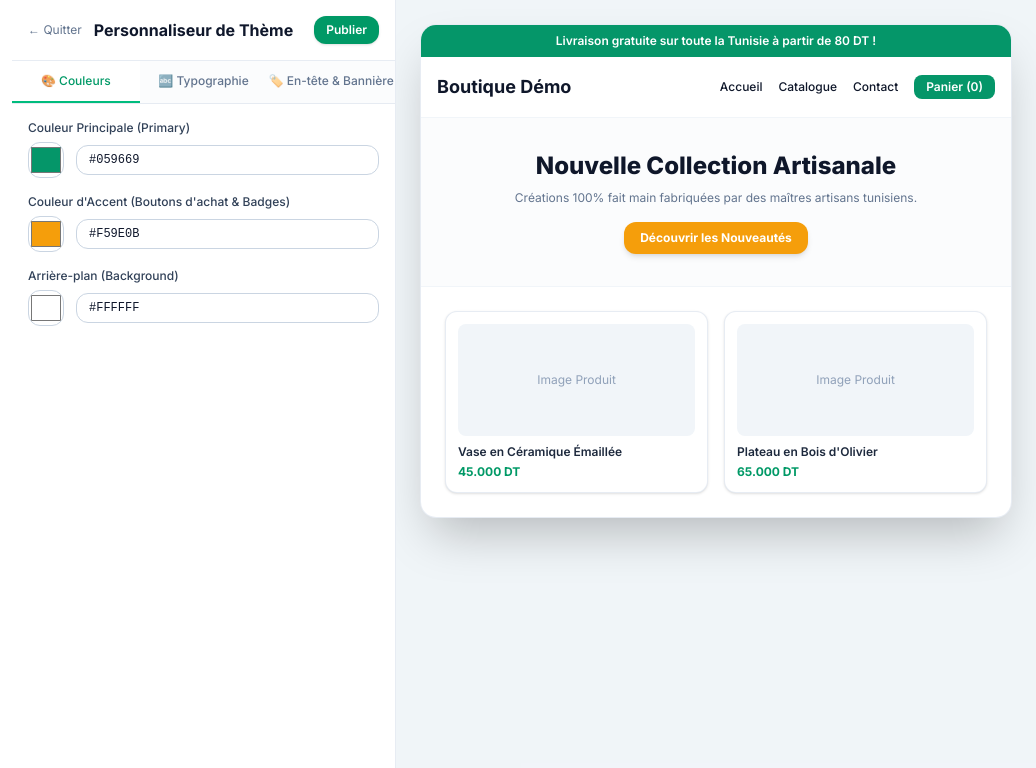
Test: PLAN-M-14: Visual Storefront Theme Customizer & Real-Time CSS Live Preview › switches tabs and updates header announcement text in live preview
# Switch to Header & Banner tab
Click the button "🏷️ En-tête & Bannière": (331,82) [267,61,395,103]
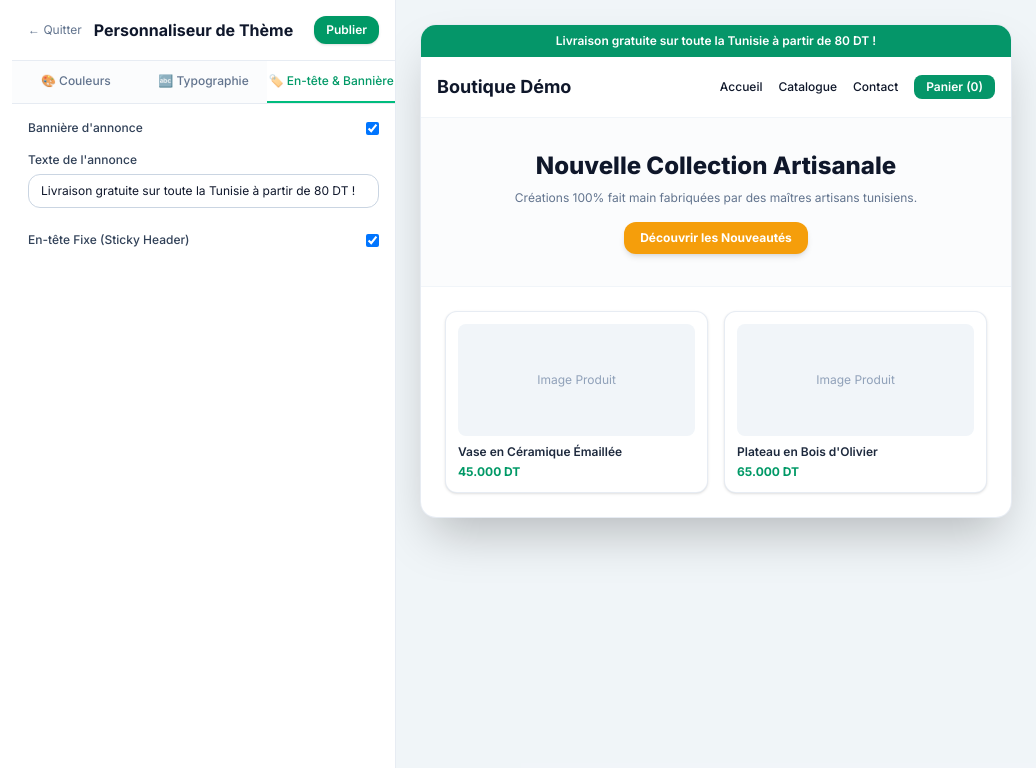
# Change announcement text
Replace the text in the field showing "Livraison gratuite sur toute la Tunisie" with "Remise de -20% pour le Black Friday !": (204,191) [28,174,379,208]
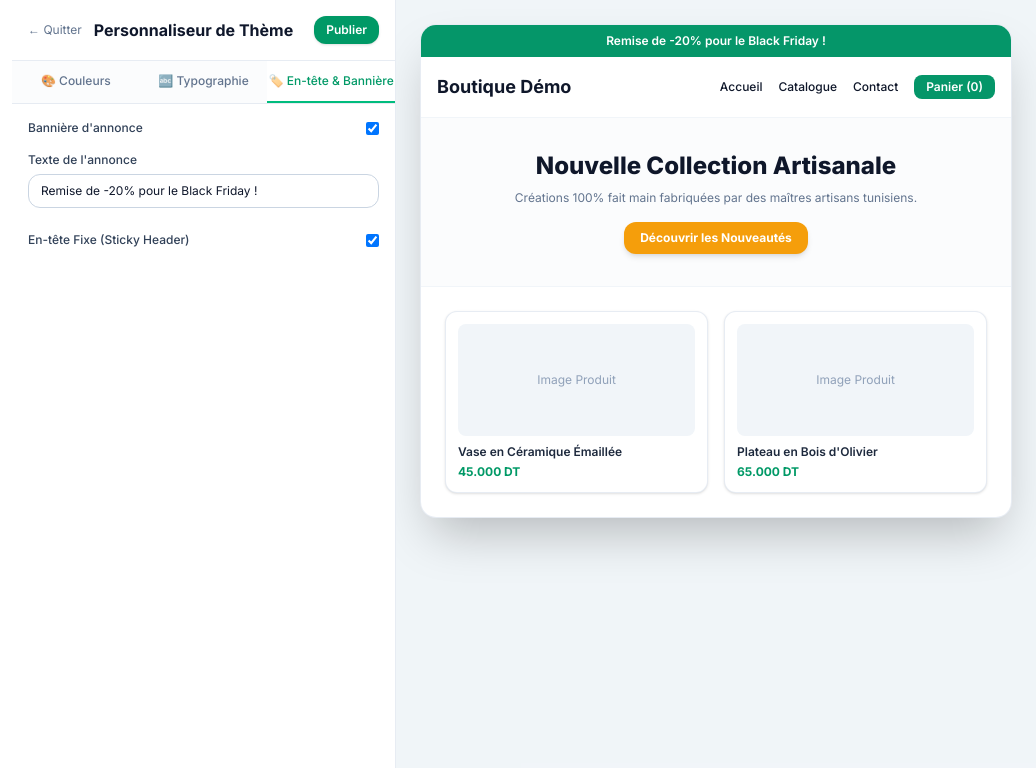
expect the text "Remise de -20% pour le Black Friday !" is shown: met, box [421,25,1011,57]
